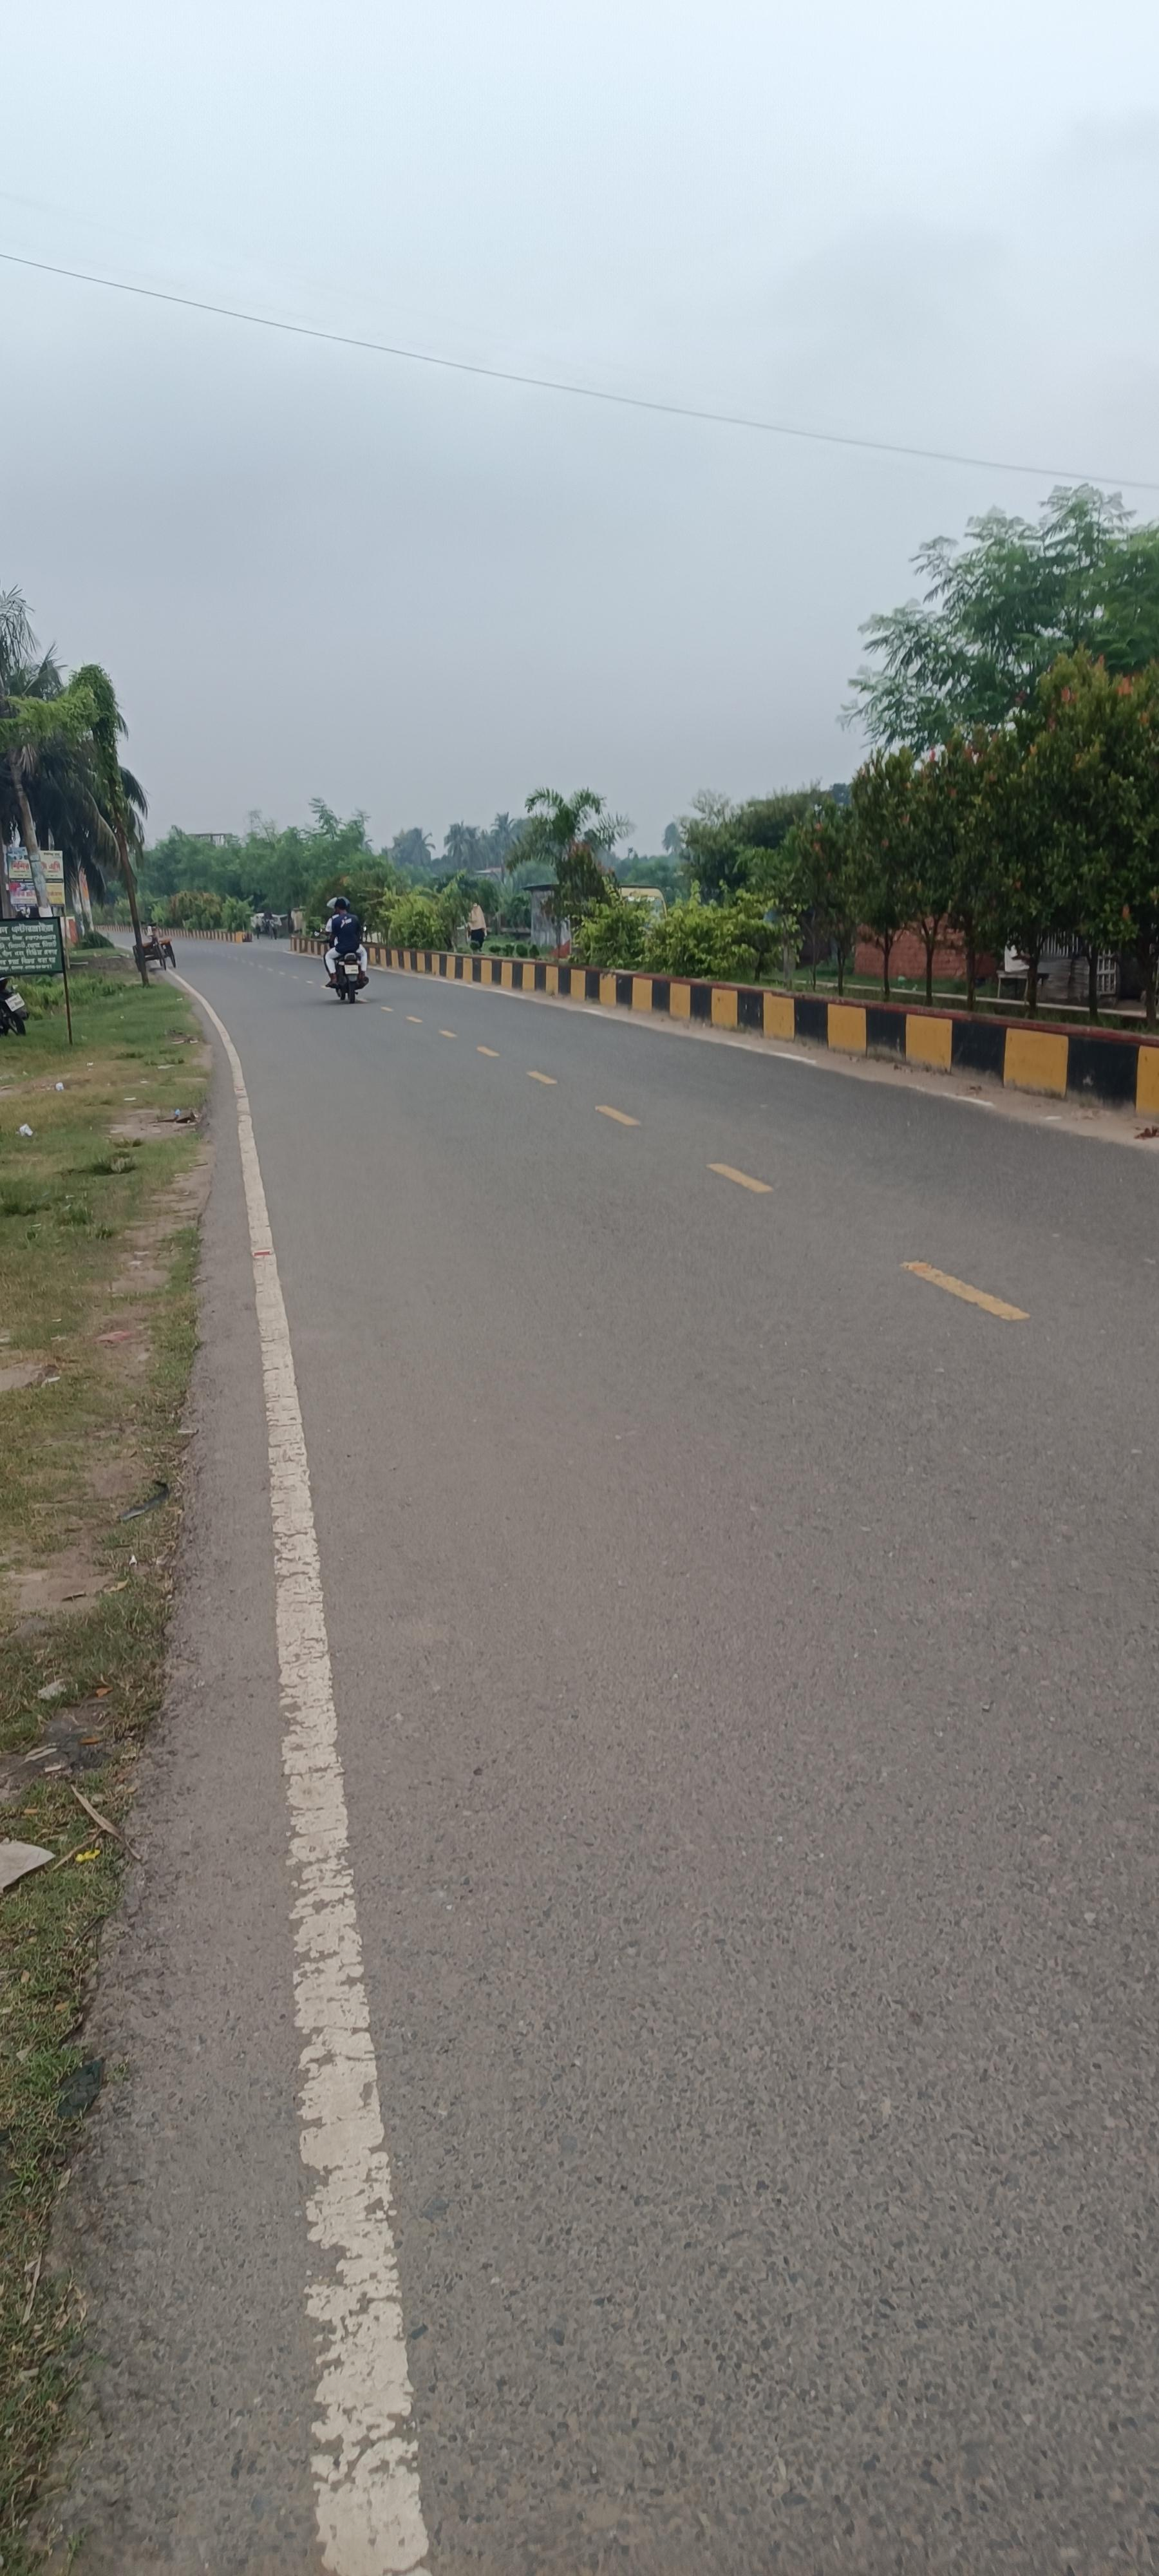Construction-barrier: (496, 933, 1141, 1114)
Fallen-tree: (318, 935, 368, 1002)
Garbage-bin: (322, 895, 368, 986)
